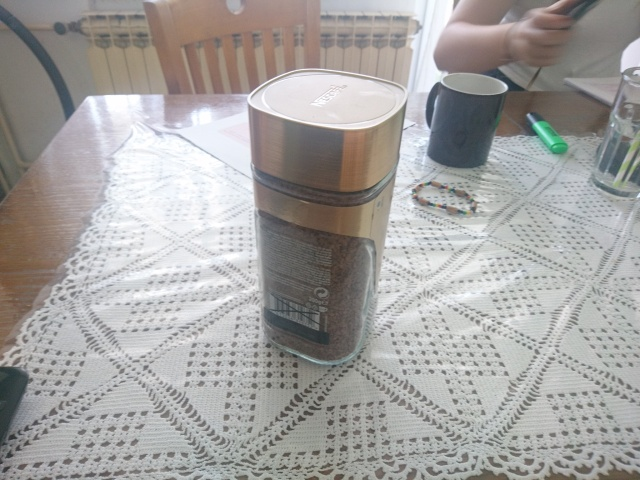Nescafe Gold 225g: (244, 65, 410, 368)
